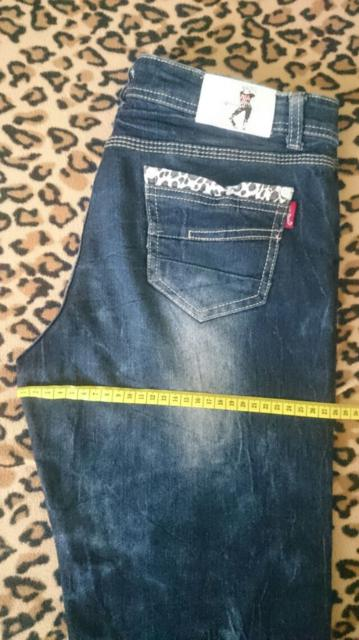Pants_Leggings: (29, 50, 335, 640)
